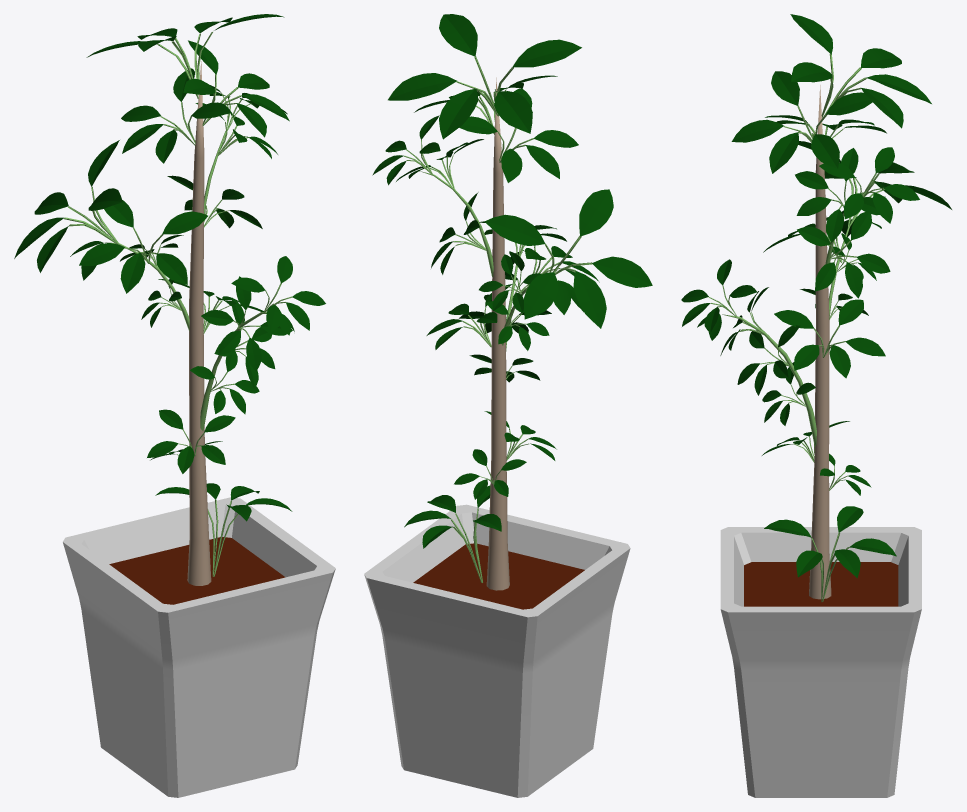
The model's file is plant.fbx.
3 renders of one model, left to right at view 1: azimuth 30°, elevation 25°; view 2: azimuth 150°, elevation 25°; view 3: azimuth 270°, elevation 25°, orthographic. The views are drawn at different scales.
Visible parts, largest first — view 1: pCube1, pCylinder27; view 2: pCube1, pCylinder27; view 3: pCube1, pCylinder27.
Part boxes in pixels (x1=…): pCube1: x1=63, y1=497, x2=335, y2=797; pCylinder27: x1=14, y1=14, x2=325, y2=585; pCube1: x1=364, y1=504, x2=630, y2=797; pCylinder27: x1=372, y1=14, x2=652, y2=590; pCube1: x1=720, y1=527, x2=921, y2=797; pCylinder27: x1=681, y1=14, x2=951, y2=601.
Size of the model in its own units: 1.64 by 4.45 by 1.51.
